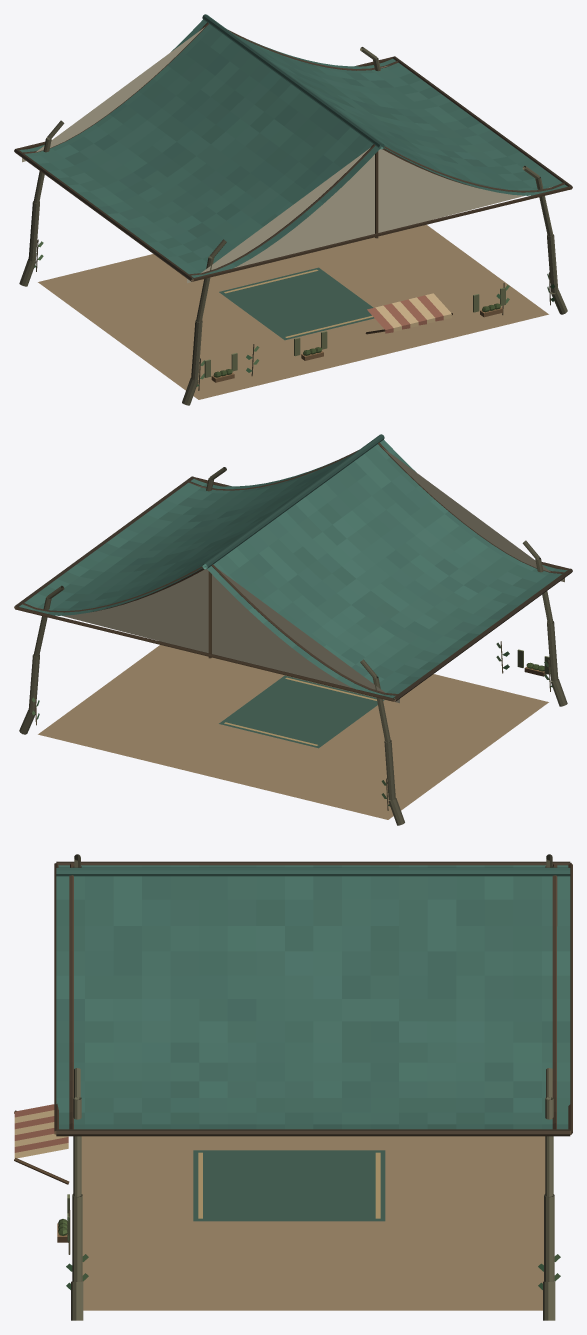
3 renders of one model, top to bottom at view 1: azimuth 30°, elevation 25°; view 2: azimuth 150°, elevation 25°; view 3: azimuth 270°, elevation 25°, orthographic. The views are drawn at different scales.
Parts seen in each view (by area): view 1: 069bbd5051c0598ab5799437ac0ebb4e61bbe635ac1012bc9eeea768d6f7; view 2: 069bbd5051c0598ab5799437ac0ebb4e61bbe635ac1012bc9eeea768d6f7; view 3: 069bbd5051c0598ab5799437ac0ebb4e61bbe635ac1012bc9eeea768d6f7.
Boxes of the visible parts, x1,y1,x2,y2 form: 069bbd5051c0598ab5799437ac0ebb4e61bbe635ac1012bc9eeea768d6f7: (14, 14, 572, 405); 069bbd5051c0598ab5799437ac0ebb4e61bbe635ac1012bc9eeea768d6f7: (14, 434, 572, 825); 069bbd5051c0598ab5799437ac0ebb4e61bbe635ac1012bc9eeea768d6f7: (14, 854, 572, 1320).
Size of the model in its own units: 16.13 by 8.85 by 13.98.
6 materials, 1 textured.
